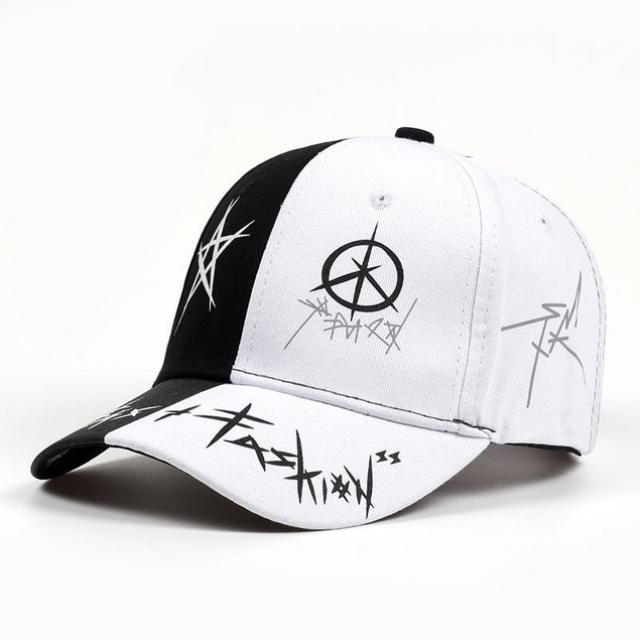Nonhelmet: (29, 123, 609, 531)
